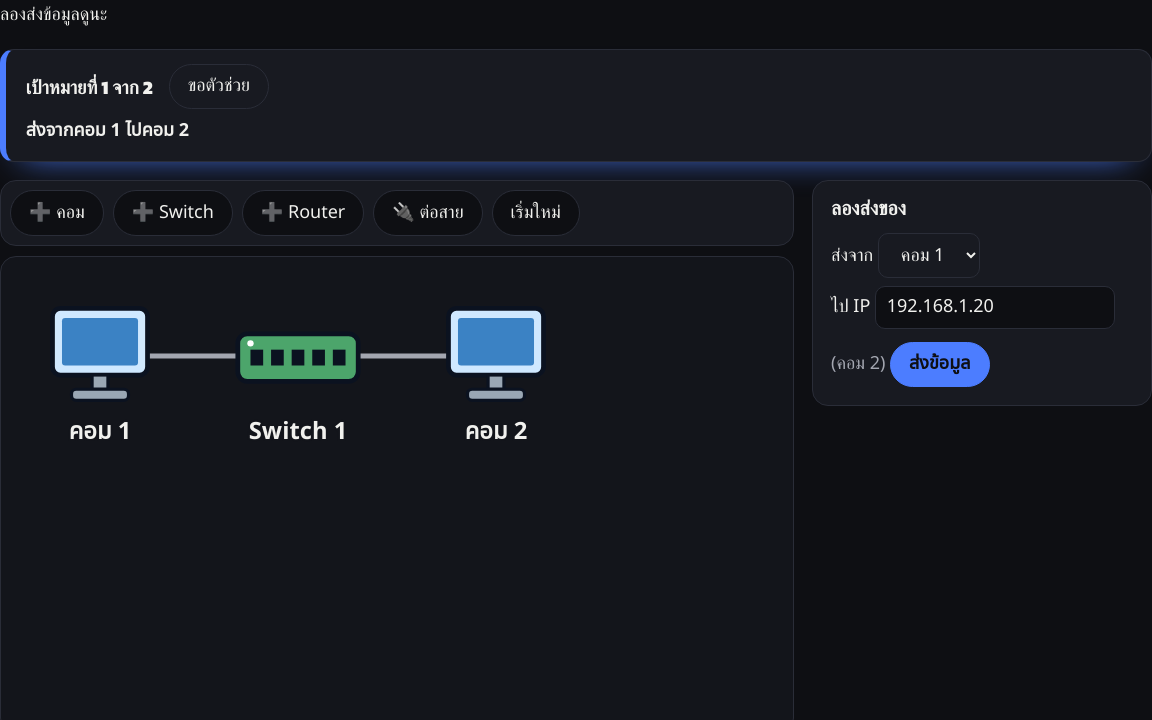
Test case: LabView › shows intro, the first goal and a hint on request
Expected: the text "ลองส่งข้อมูลดูนะ" is shown, [0, 1, 107, 28]
Expected: the text "เป้าหมายที่ 1 จาก 2" is shown, [26, 70, 153, 103]
Click the button "ขอตัวช่วย" at (219, 87), box [169, 64, 269, 109]
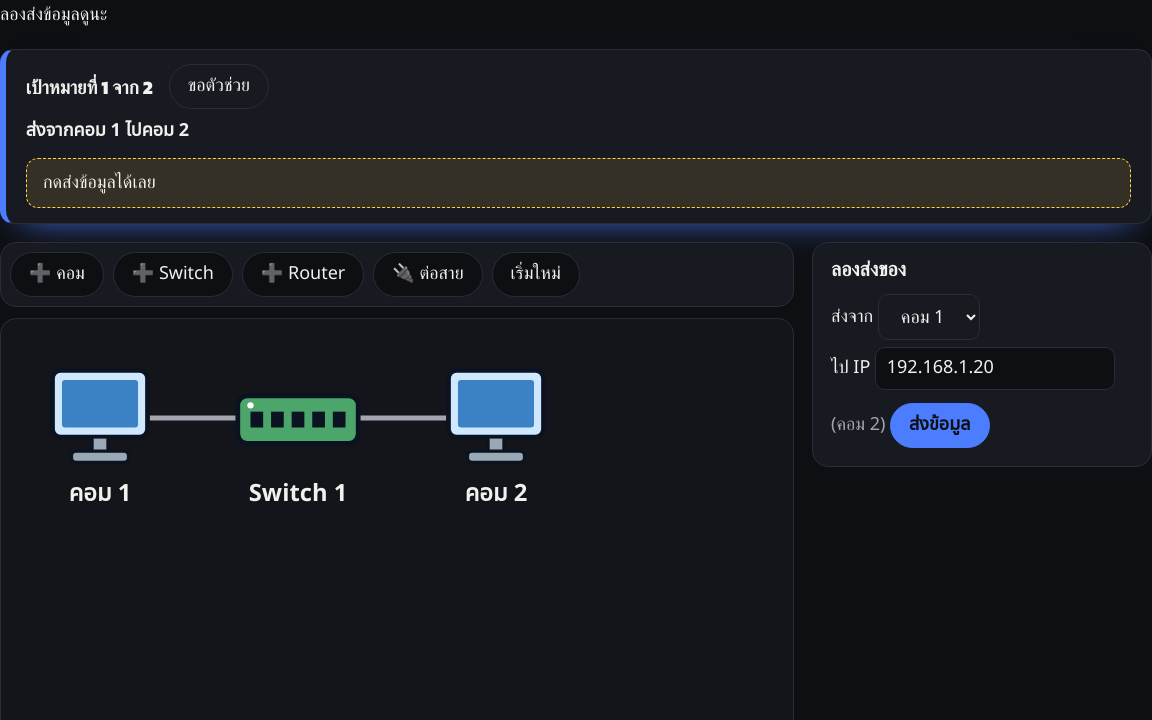
Expected: the text "กดส่งข้อมูลได้เลย" is shown, [26, 158, 1131, 208]
